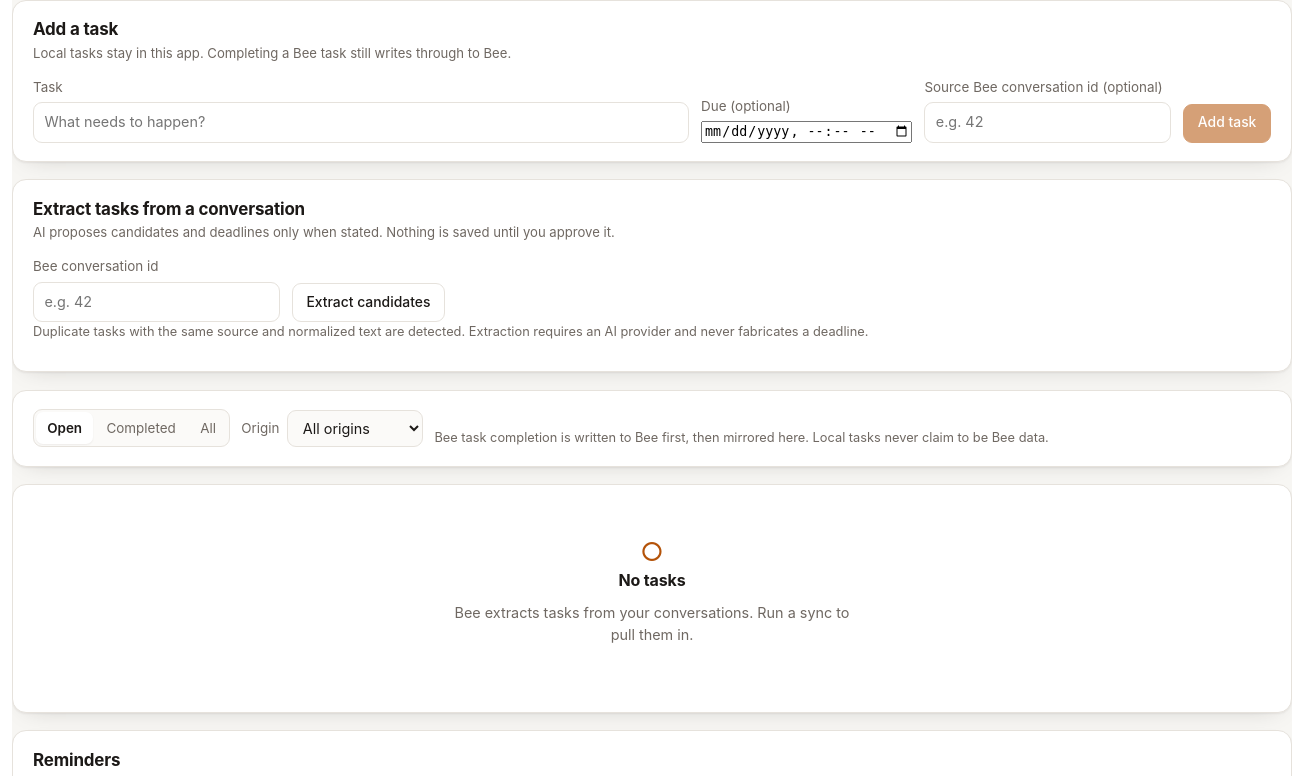
Tasks phase 2 actions › creates a local task linked by Bee conversation id without writing to Bee
The image size is (1304, 776).
Expected: the heading "No tasks" is shown, [618, 570, 686, 590]
Type "Draft the proposal" into the field with placeholder "What needs to happen?".
click(361, 122); type("Draft the proposal")  # box [33, 102, 689, 142]
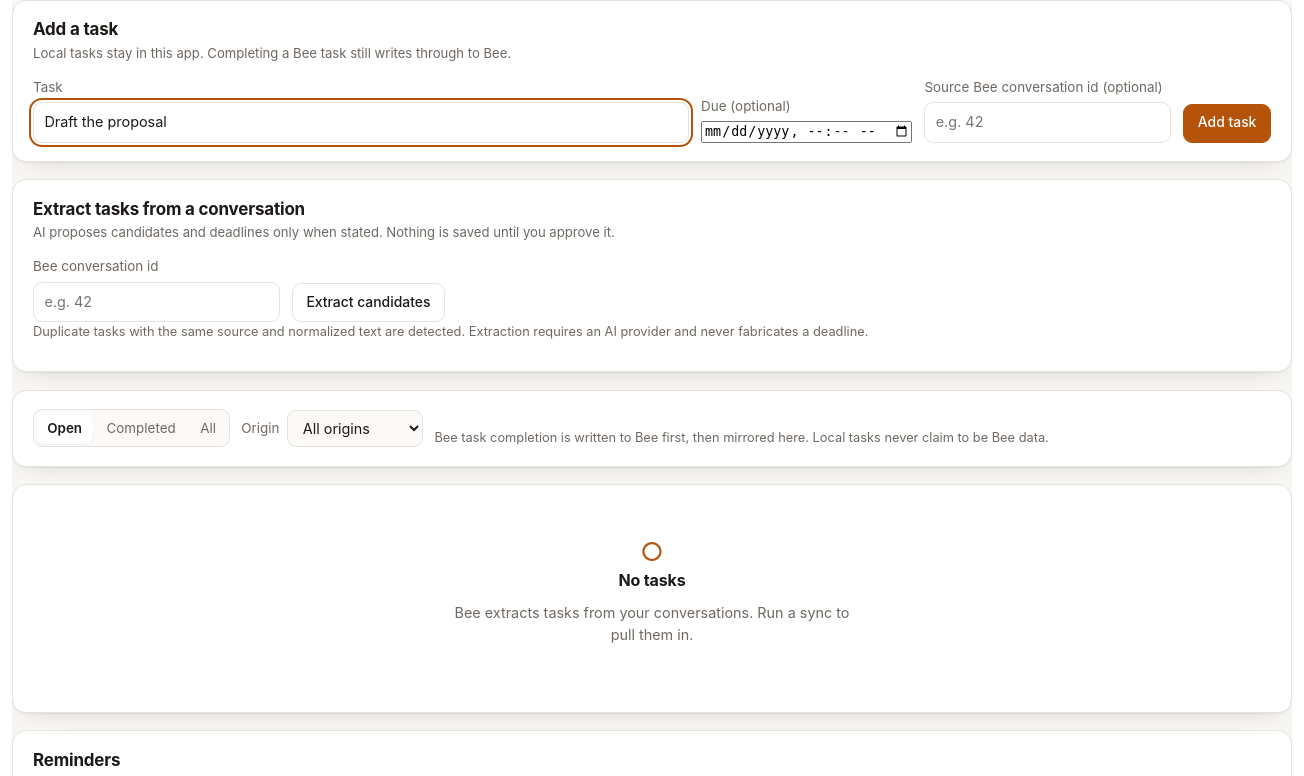
Type "42" into the field labelled "Source Bee conversation id (optional)".
click(1048, 122); type("42")  # box [924, 102, 1171, 142]
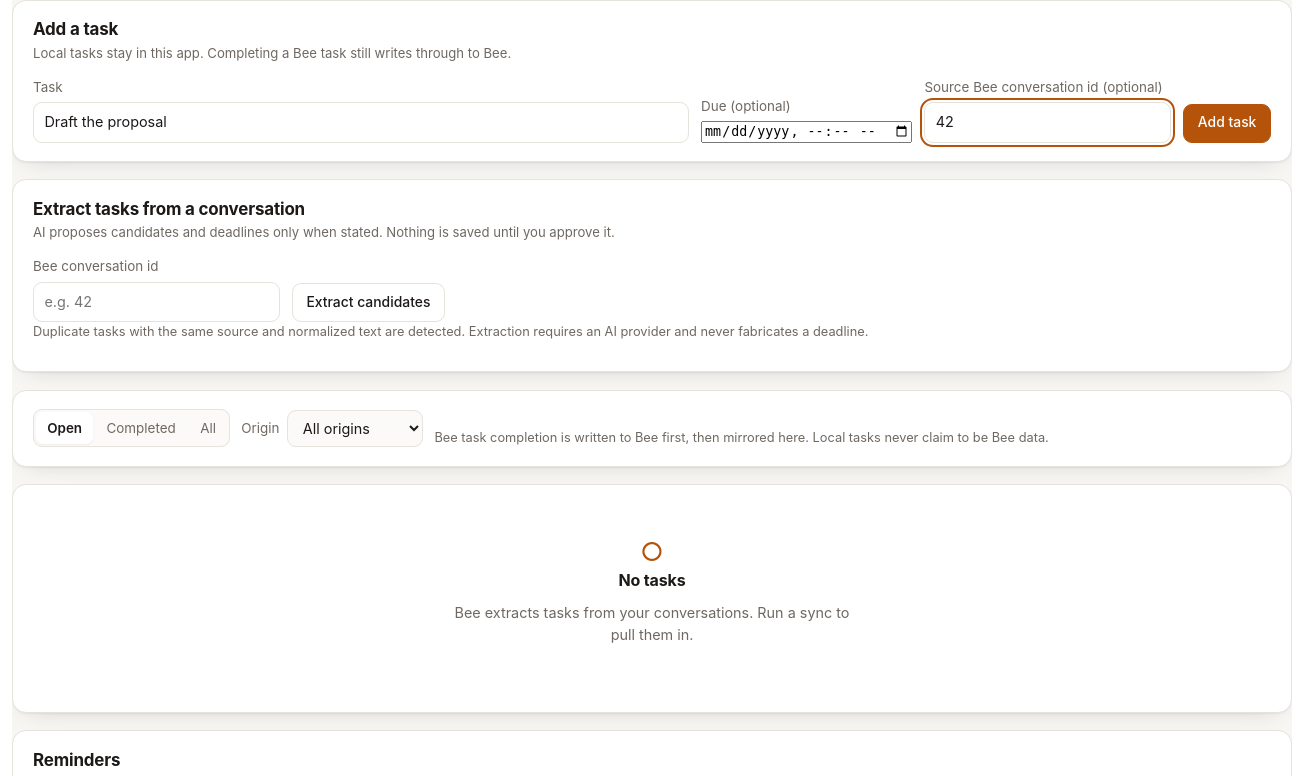
Click the button "Add task".
click(1227, 123)  # box [1183, 104, 1271, 142]
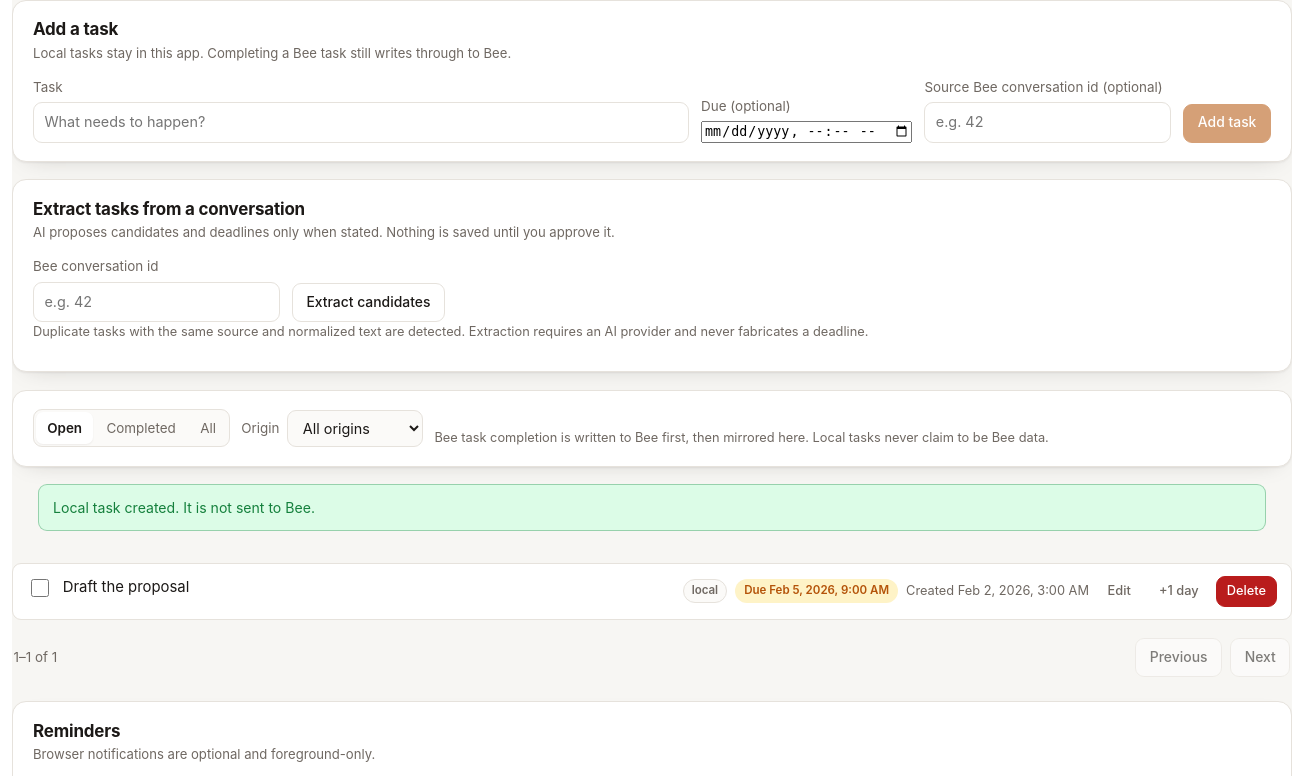
Now the text "Draft the proposal" is shown, box [63, 576, 189, 598]
